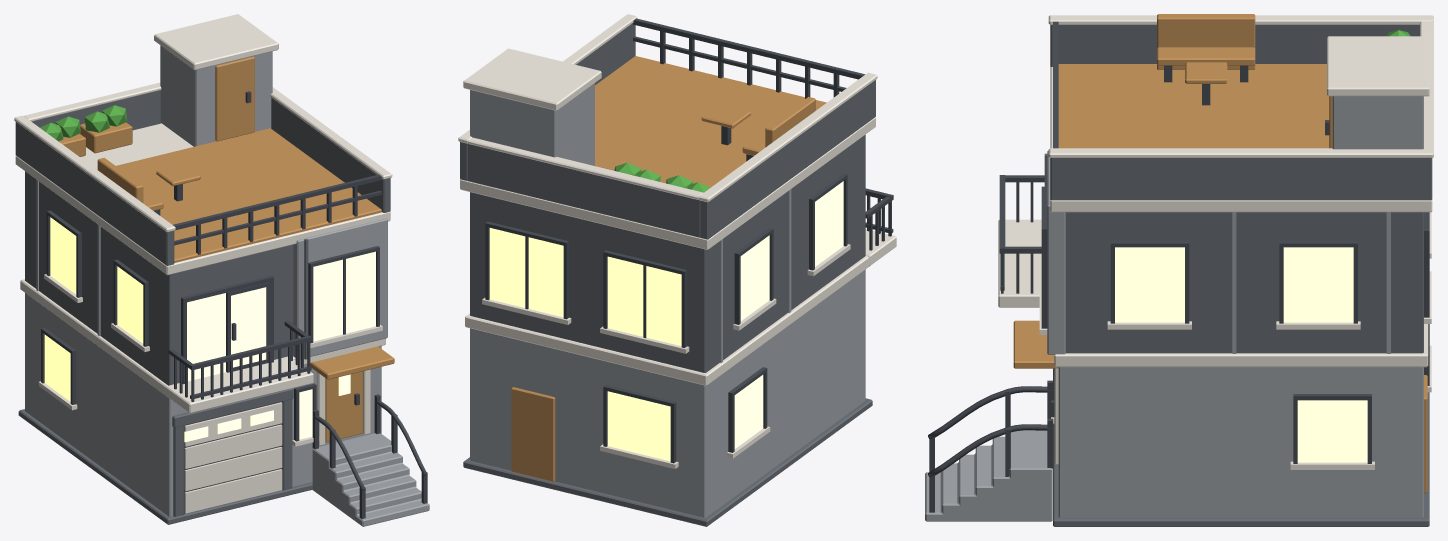
File: modern-grey-townhome.glb
The picture shows the model from 3 angles, left to right: view 1: azimuth 30°, elevation 25°; view 2: azimuth 150°, elevation 25°; view 3: azimuth 270°, elevation 25°; orthographic projection. The views are drawn at different scales.
Visible parts, largest first — view 1: Body_Ground, Roof_Deck, Body_Upper, FrontStair, Roof_Slab, Stair_Hut, Parapet_L, Bay_Panel, Window_Bay_Pane, Stair_Hut_Roof, Parapet_R, Balcony_Slab (+34 smaller); view 2: Body_Ground, Body_Upper, Roof_Deck, Parapet_B, Parapet_L, Stair_Hut, Band_Floor, Window_Back_U2_Pane, Window_Back_U1_Pane, Stair_Hut_Roof, Roof_Slab, Foundation (+21 smaller); view 3: Body_Ground, Body_Upper, Roof_Deck, Parapet_R, FrontStair, Parapet_L, Stair_Hut_Roof, Band_Floor, Window_right_U2_Pane, Window_right_U1_Pane, Roof_Slab, Stair_Hut (+20 smaller).
Boxes of the visible parts, x1=… form: Body_Ground: x1=25, y1=293, x2=381, y2=516; Roof_Deck: x1=116, y1=128, x2=381, y2=262; Body_Upper: x1=25, y1=171, x2=293, y2=385; FrontStair: x1=312, y1=433, x2=429, y2=526; Roof_Slab: x1=15, y1=123, x2=390, y2=275; Stair_Hut: x1=160, y1=45, x2=272, y2=146; Parapet_L: x1=15, y1=122, x2=174, y2=265; Bay_Panel: x1=293, y1=218, x2=387, y2=358; Window_Bay_Pane: x1=313, y1=251, x2=375, y2=341; Stair_Hut_Roof: x1=154, y1=14, x2=278, y2=70; Parapet_R: x1=271, y1=98, x2=390, y2=212; Balcony_Slab: x1=165, y1=356, x2=313, y2=413; Body_Ground: x1=470, y1=269, x2=865, y2=517; Body_Upper: x1=470, y1=134, x2=865, y2=372; Roof_Deck: x1=595, y1=56, x2=826, y2=187; Parapet_B: x1=467, y1=143, x2=700, y2=237; Parapet_L: x1=700, y1=80, x2=875, y2=239; Stair_Hut: x1=470, y1=83, x2=594, y2=165; Band_Floor: x1=465, y1=256, x2=869, y2=385; Window_Back_U2_Pane: x1=489, y1=228, x2=563, y2=317; Window_Back_U1_Pane: x1=607, y1=256, x2=681, y2=345; Stair_Hut_Roof: x1=463, y1=48, x2=601, y2=110; Roof_Slab: x1=460, y1=117, x2=875, y2=249; Foundation: x1=463, y1=398, x2=872, y2=526; Body_Ground: x1=1058, y1=367, x2=1423, y2=517; Body_Upper: x1=1065, y1=212, x2=1423, y2=353; Roof_Deck: x1=1058, y1=64, x2=1329, y2=148; Parapet_R: x1=1050, y1=158, x2=1432, y2=200; FrontStair: x1=925, y1=430, x2=1052, y2=521; Parapet_L: x1=1050, y1=25, x2=1419, y2=66; Stair_Hut_Roof: x1=1327, y1=36, x2=1429, y2=96; Band_Floor: x1=1054, y1=324, x2=1428, y2=367; Window_right_U2_Pane: x1=1283, y1=247, x2=1353, y2=322; Window_right_U1_Pane: x1=1115, y1=247, x2=1184, y2=322; Roof_Slab: x1=1050, y1=67, x2=1432, y2=212; Stair_Hut: x1=1332, y1=96, x2=1423, y2=149.
Size of the model in its own units: 23.4 by 34.5 by 36.2.
